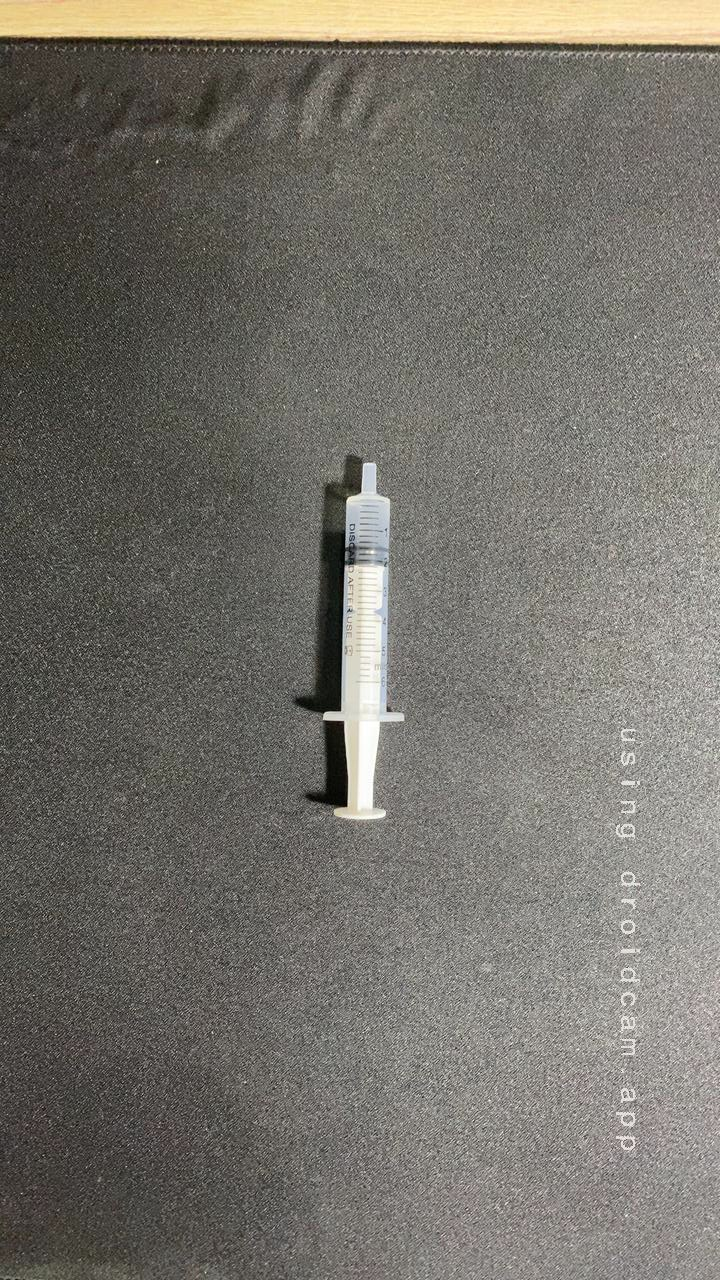syringe: (275, 440, 448, 854)
